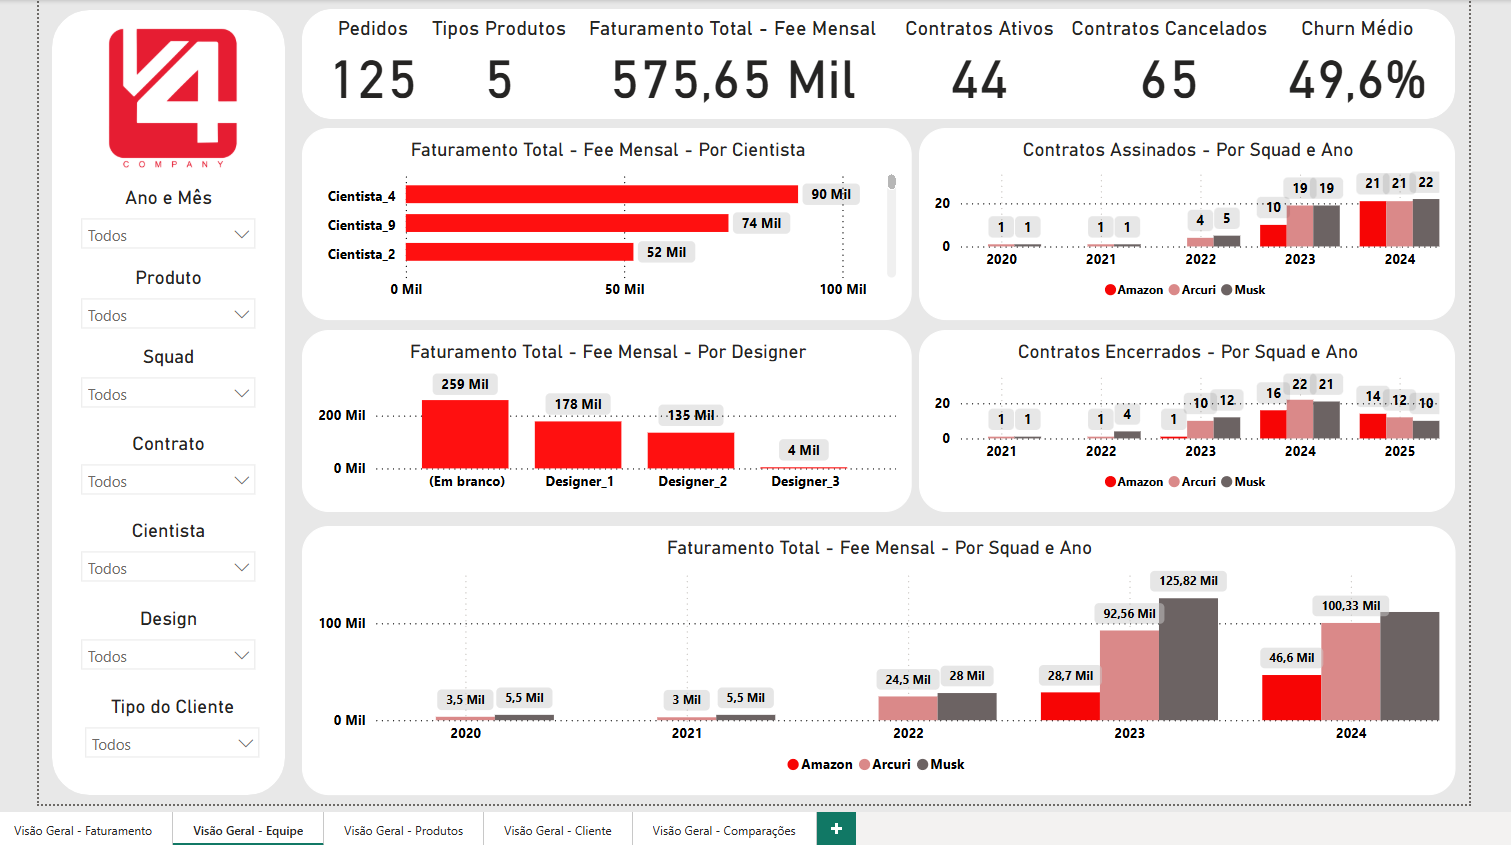

What the dashboard file says about the page in this screenshot:
{"tool":"powerbi","page":{"name":"Visão Geral - Equipe","canvas":[1280,720],"ordinal":1},"visuals":[{"type":"shape","box":[11.6,9,208.7,703],"z":0},{"type":"shape","box":[235.5,8.1,1032.5,98.5],"z":1000},{"type":"card","title":"Faturamento Total - Fee Mensal","fields":{"Values":["Sum(Sheet1.Fee Mensal)"]},"box":[474.6,14.3,292.8,85.1],"z":2000},{"type":"card","title":"Contratos Ativos","fields":{"Values":["CountNonNull(Sheet1.situacao)"]},"box":[767.5,14.3,149.6,85.1],"z":3000},{"type":"image","box":[40.3,14.3,159.4,146.9],"z":4000},{"type":"clusteredColumnChart","title":"Faturamento Total - Fee Mensal - Por Squad e Ano","fields":{"Y":["Sum(Sheet1.Fee Mensal)"],"Series":["Sheet1.Squad"],"Category":["Sheet1.Data da Assinatura .Variation.Hierarquia de datas.Ano"]},"box":[235.5,471,1032.5,240.9],"z":5000},{"type":"slicer","title":"Ano e Mês","fields":{"Values":["Sheet1.Data da Assinatura .Variation.Hierarquia de datas.Ano","Sheet1.Data da Assinatura .Variation.Hierarquia de datas.Mês"]},"box":[27.8,166.6,176.4,71.6],"z":6000},{"type":"slicer","title":"Squad","fields":{"Values":["Sheet1.Squad"]},"box":[27.8,309,176.4,77.9],"z":7000},{"type":"slicer","title":"Produto","fields":{"Values":["Sheet1.Produto"]},"box":[27.8,238.2,176.4,70.7],"z":8000},{"type":"columnChart","title":"Faturamento Total - Fee Mensal - Por Designer","fields":{"Y":["Sum(Sheet1.Fee Mensal)"],"Category":["Sheet1.Designer"]},"box":[235.5,295.5,546.3,163],"z":9000},{"type":"barChart","title":"Faturamento Total - Fee Mensal - Por Cientista","fields":{"Y":["Sum(Sheet1.Fee Mensal)"],"Category":["Sheet1.Cientista"]},"box":[235.5,114.6,546.3,171.9],"z":10000},{"type":"slicer","title":"Contrato","fields":{"Values":["Sheet1.situacao"]},"box":[27.8,386.9,176.4,77.9],"z":11000},{"type":"slicer","title":"Cientista","fields":{"Values":["Sheet1.Cientista"]},"box":[27.8,464.8,176.4,78.8],"z":12000},{"type":"slicer","title":"Design","fields":{"Values":["Sheet1.Designer"]},"box":[27.8,543.6,176.4,78.8],"z":13000},{"type":"clusteredColumnChart","title":"Contratos Encerrados - Por Squad e Ano","fields":{"Category":["Sheet1.datafimcontrato.Variation.Hierarquia de datas.Ano"],"Y":["CountNonNull(Sheet1.datafimcontrato)"],"Series":["Sheet1.Squad"]},"box":[788.1,295.5,480,163],"z":14000},{"type":"clusteredColumnChart","title":"Contratos Assinados - Por Squad e Ano","fields":{"Category":["Sheet1.Data da Assinatura .Variation.Hierarquia de datas.Ano"],"Y":["CountNonNull(Sheet1.Data da Assinatura )"],"Series":["Sheet1.Squad"]},"box":[788.1,114.6,480,171.9],"z":15000},{"type":"card","title":"Contratos Cancelados","fields":{"Values":["CountNonNull(Sheet1.situacao)"]},"box":[917,14.3,190.7,85.1],"z":16000},{"type":"card","title":"Pedidos","fields":{"Values":["CountNonNull(Sheet1.Clientes)"]},"box":[248.1,14.3,102.1,85.1],"z":17000},{"type":"card","title":"Churn Médio","fields":{"Values":["Sheet1.Medida"]},"box":[1107.8,14.3,146,85.1],"z":18000},{"type":"slicer","title":"Tipo do Cliente","fields":{"Values":["Sheet1.Faturamento"]},"box":[31.3,622.4,176.4,78.8],"z":19000},{"type":"card","title":"Tipos Produtos","fields":{"Values":["Count(Sheet1.Produto)"]},"box":[343,14.3,137.9,85.1],"z":20000}]}

Visuals, with their boxes on the page's 1280x720 design canvas (x1, y1, x2, y2). These are canvas units, not pixel positions in the 1511x845 screenshot, which may show the page scaled, cropped or inside an application window:
shape: 12 9 220 712
shape: 236 8 1268 107
"Faturamento Total - Fee Mensal" card: 475 14 767 99
"Contratos Ativos" card: 768 14 917 99
image: 40 14 200 161
"Faturamento Total - Fee Mensal - Por Squad e Ano" clusteredColumnChart: 236 471 1268 712
"Ano e Mês" slicer: 28 167 204 238
"Squad" slicer: 28 309 204 387
"Produto" slicer: 28 238 204 309
"Faturamento Total - Fee Mensal - Por Designer" columnChart: 236 296 782 458
"Faturamento Total - Fee Mensal - Por Cientista" barChart: 236 115 782 286
"Contrato" slicer: 28 387 204 465
"Cientista" slicer: 28 465 204 544
"Design" slicer: 28 544 204 622
"Contratos Encerrados - Por Squad e Ano" clusteredColumnChart: 788 296 1268 458
"Contratos Assinados - Por Squad e Ano" clusteredColumnChart: 788 115 1268 286
"Contratos Cancelados" card: 917 14 1108 99
"Pedidos" card: 248 14 350 99
"Churn Médio" card: 1108 14 1254 99
"Tipo do Cliente" slicer: 31 622 208 701
"Tipos Produtos" card: 343 14 481 99
